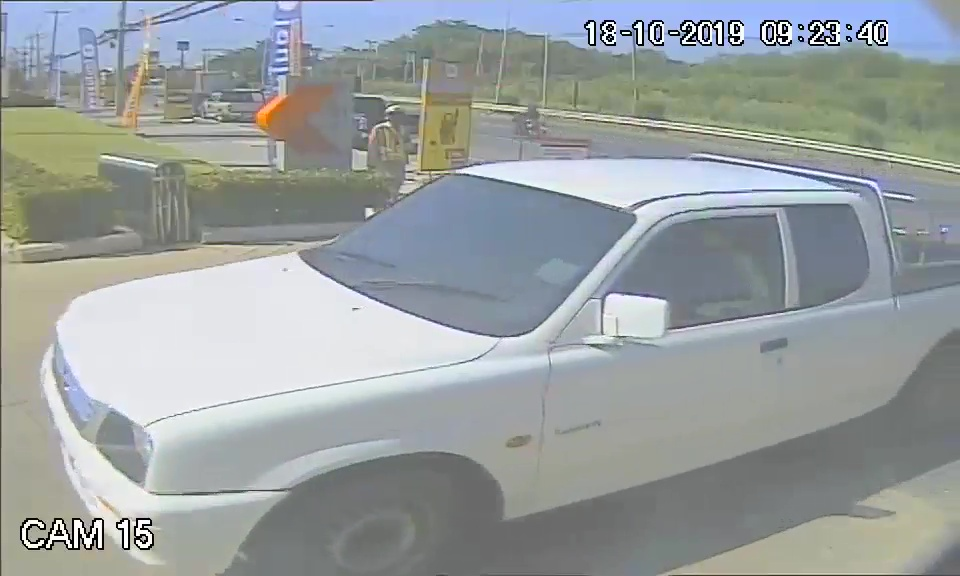pickup: (41, 161, 959, 526)
